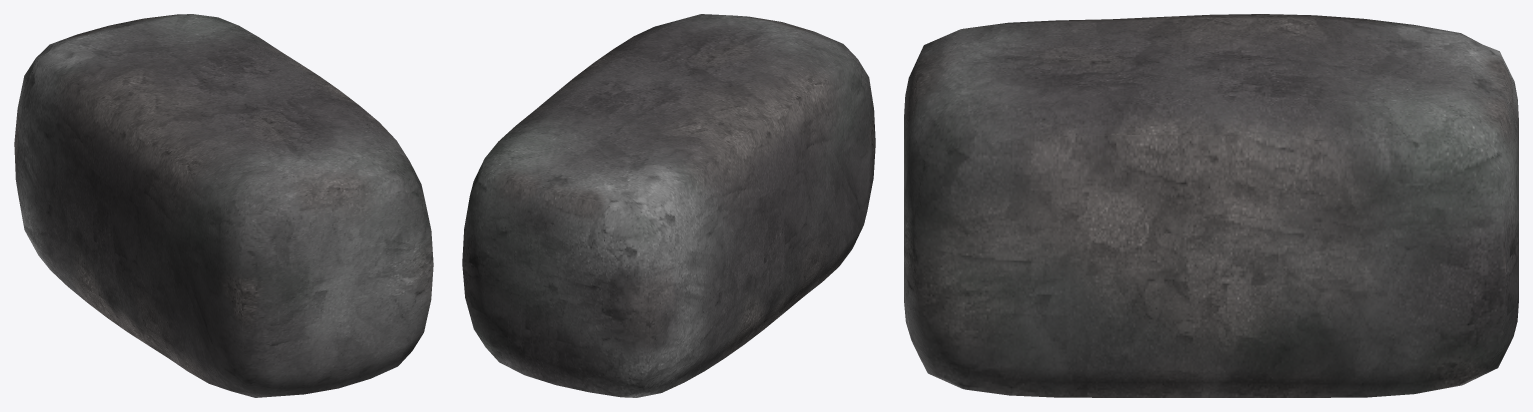
Rendered from tile3.fbx.
The picture shows the model from 3 angles, left to right: view 1: azimuth 30°, elevation 25°; view 2: azimuth 150°, elevation 25°; view 3: azimuth 270°, elevation 25°; orthographic projection. The views are drawn at different scales.
Parts seen in each view (by area): view 1: Cube; view 2: Cube; view 3: Cube.
Boxes of the visible parts, <box> form: Cube: <box>14,14,433,397</box>; Cube: <box>462,14,875,397</box>; Cube: <box>904,14,1518,397</box>.
Size of the model in its own units: 218 by 212 by 400.
1 material, 1 textured.
